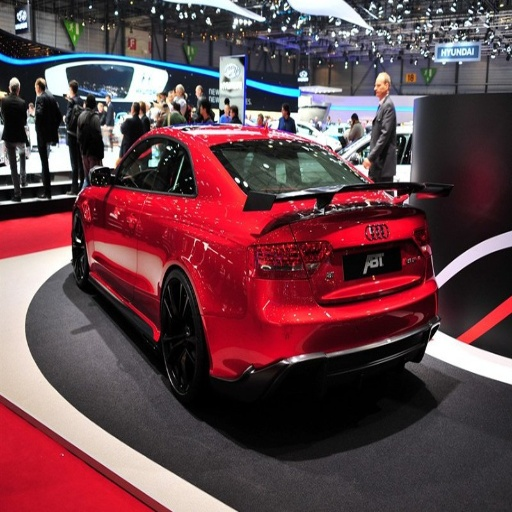_background_: (209, 273, 436, 380)
back_bumper: (216, 141, 356, 195)
front_glass: (94, 154, 148, 270)
front_left_light: (113, 231, 157, 309)
tailgate: (266, 188, 425, 309)
trunk: (161, 273, 206, 400)
